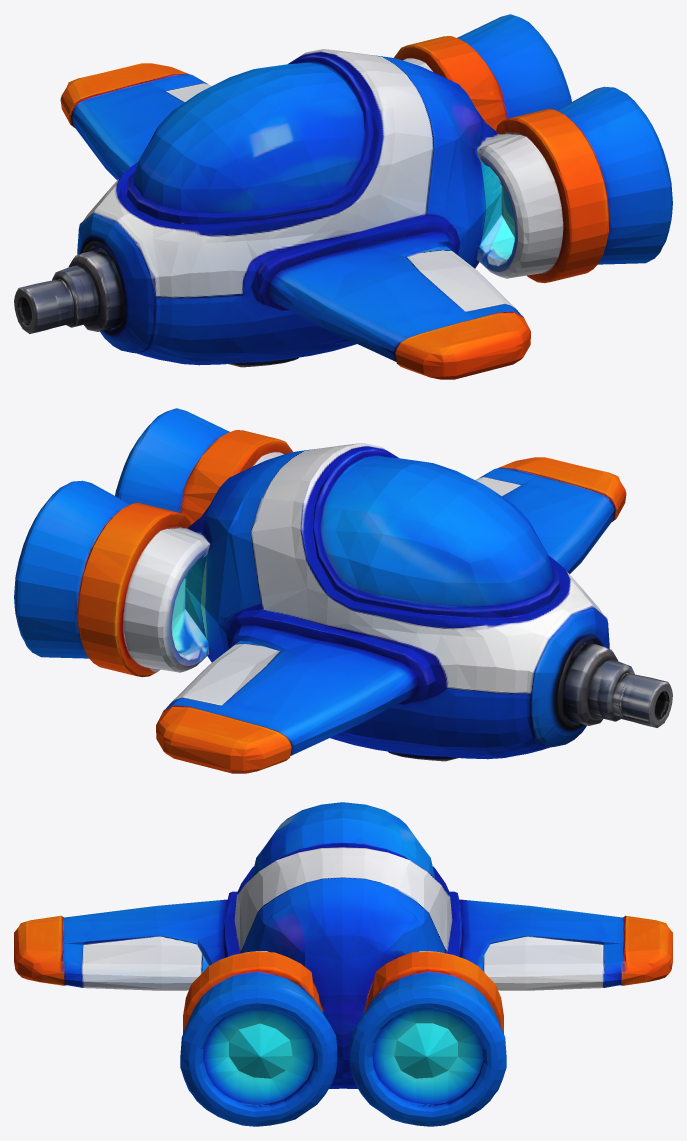
The model's file is Meshy_AI_Blue_Orange_Toy_Space_0703084701_texture.glb.
3 renders of one model, top to bottom at view 1: azimuth 30°, elevation 25°; view 2: azimuth 150°, elevation 25°; view 3: azimuth 270°, elevation 25°, orthographic. The views are drawn at different scales.
Bounding box in the file's own units: 1.62 × 0.7632 × 1.91.
1 material, 1 textured.
